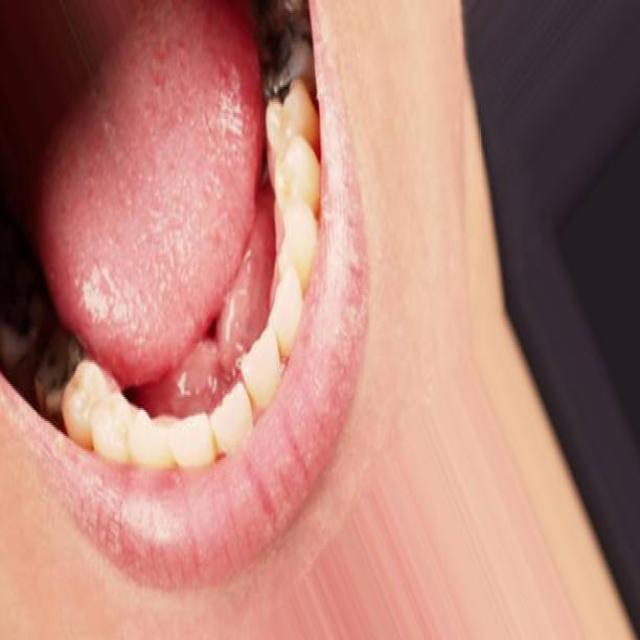caries: (254, 18, 317, 108), (32, 321, 90, 414)
